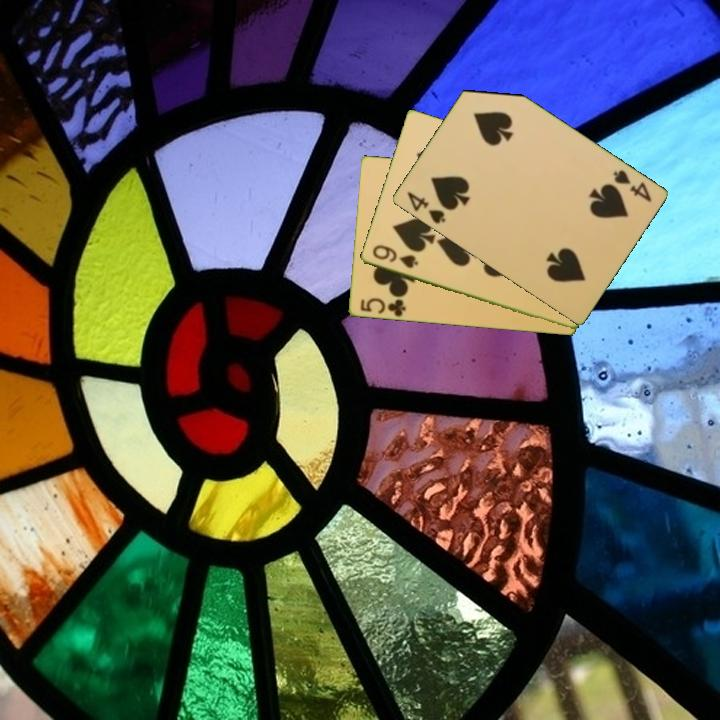4s: (403, 188, 448, 227), (609, 166, 654, 205)
5c: (357, 295, 409, 319)
9s: (368, 241, 421, 271)
